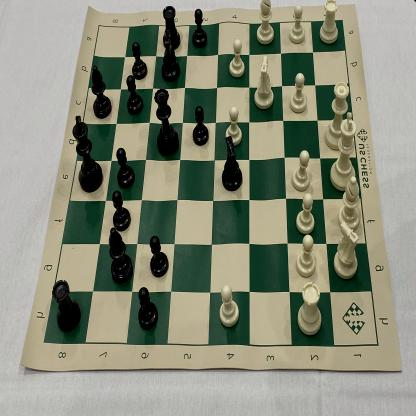black-bishop: (108, 228, 134, 284), (89, 63, 112, 120)
black-king: (72, 112, 102, 195), (323, 80, 353, 152)
black-knight: (221, 134, 244, 192), (159, 29, 182, 82)
black-pawn: (148, 234, 170, 280), (138, 285, 158, 332), (110, 190, 132, 231), (126, 75, 144, 117), (116, 146, 134, 188), (192, 7, 210, 48), (131, 40, 149, 80), (192, 106, 210, 146)
black-queen: (155, 87, 178, 157)
black-rook: (52, 274, 83, 335), (161, 2, 182, 50)
white-bishop: (338, 175, 363, 230), (255, 0, 276, 45)
white-king: (329, 111, 359, 193)
white-knight: (333, 219, 362, 278), (254, 55, 276, 110)
white-pawn: (219, 282, 241, 326), (296, 233, 317, 278), (228, 36, 248, 80), (295, 194, 316, 234), (225, 105, 244, 147), (289, 71, 308, 113), (288, 2, 306, 46)
white-queen: (296, 280, 324, 338), (292, 150, 312, 190)
white-rook: (317, 0, 341, 46)
